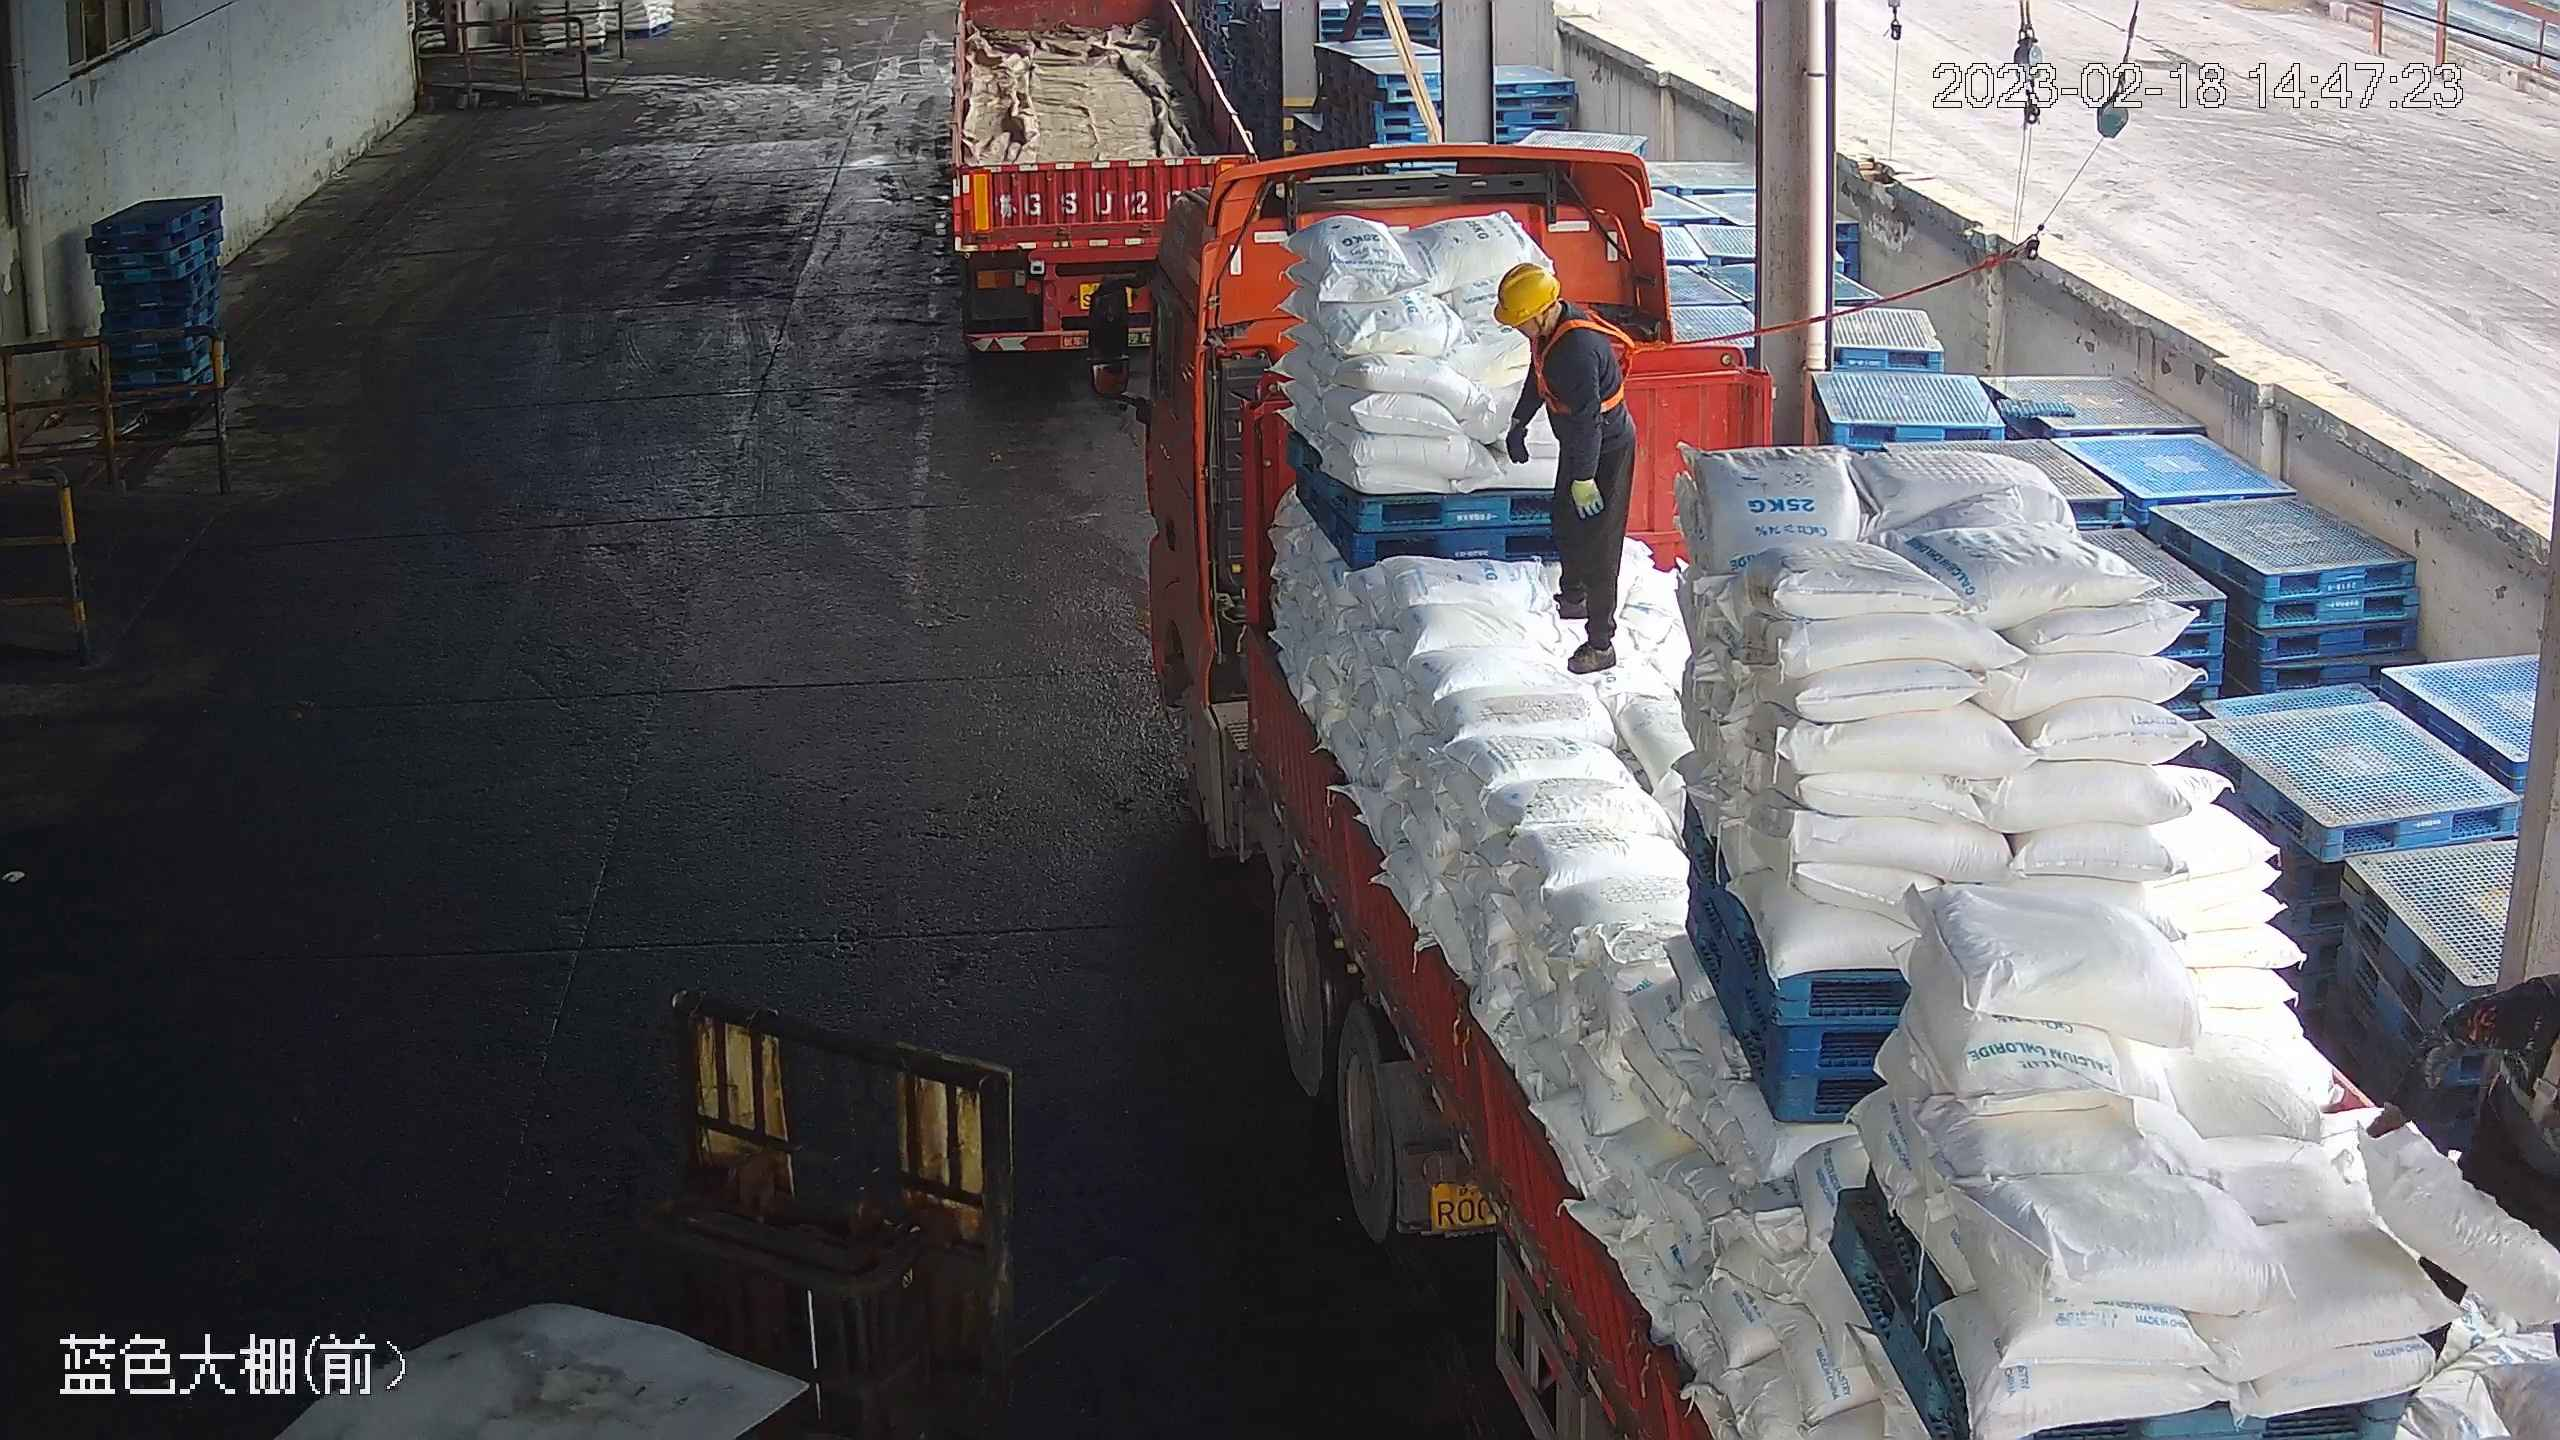belt: (1537, 305, 1636, 416)
head: (1491, 262, 1623, 391)
helmet: (1491, 260, 1562, 327)
people: (1490, 257, 1646, 675)
truck: (1083, 145, 2560, 1440), (948, 1, 1261, 361)
